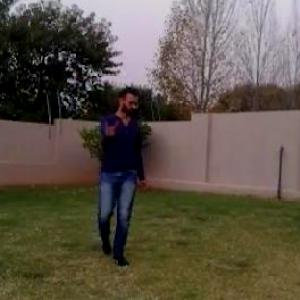takeoff-hand: (92, 114, 124, 143)
